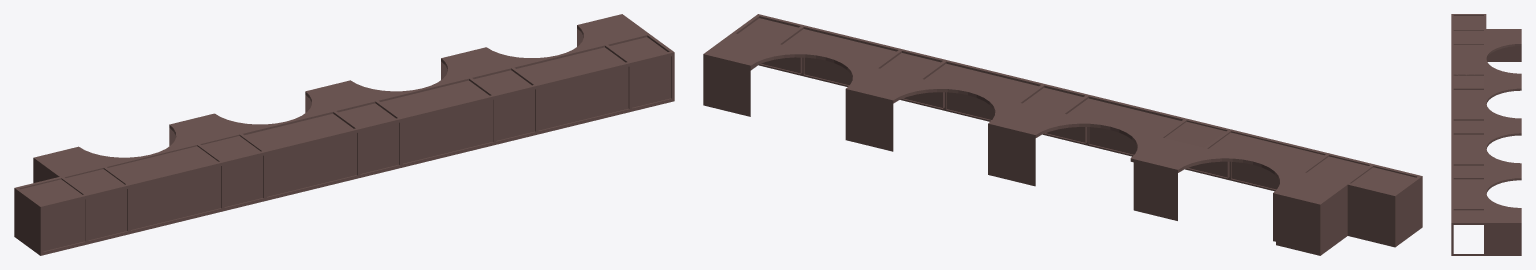
The model's file is Silo_Support.fbx.
3 renders of one model, left to right at view 1: azimuth 30°, elevation 25°; view 2: azimuth 150°, elevation 25°; view 3: azimuth 270°, elevation 25°, orthographic. The views are drawn at different scales.
Parts seen in each view (by area): view 1: Platform.001; view 2: Platform.001; view 3: Platform.001.
Part boxes in pixels (box(x1,y1,x2,y2)): Platform.001: box(14, 14, 674, 255); Platform.001: box(703, 14, 1422, 255); Platform.001: box(1451, 14, 1521, 255).
Size of the model in its own units: 4200 by 310 by 600.
